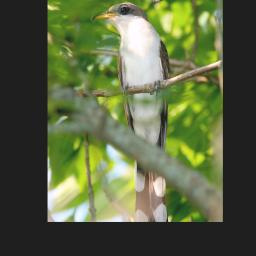Cuckoo: (91, 0, 172, 222)
